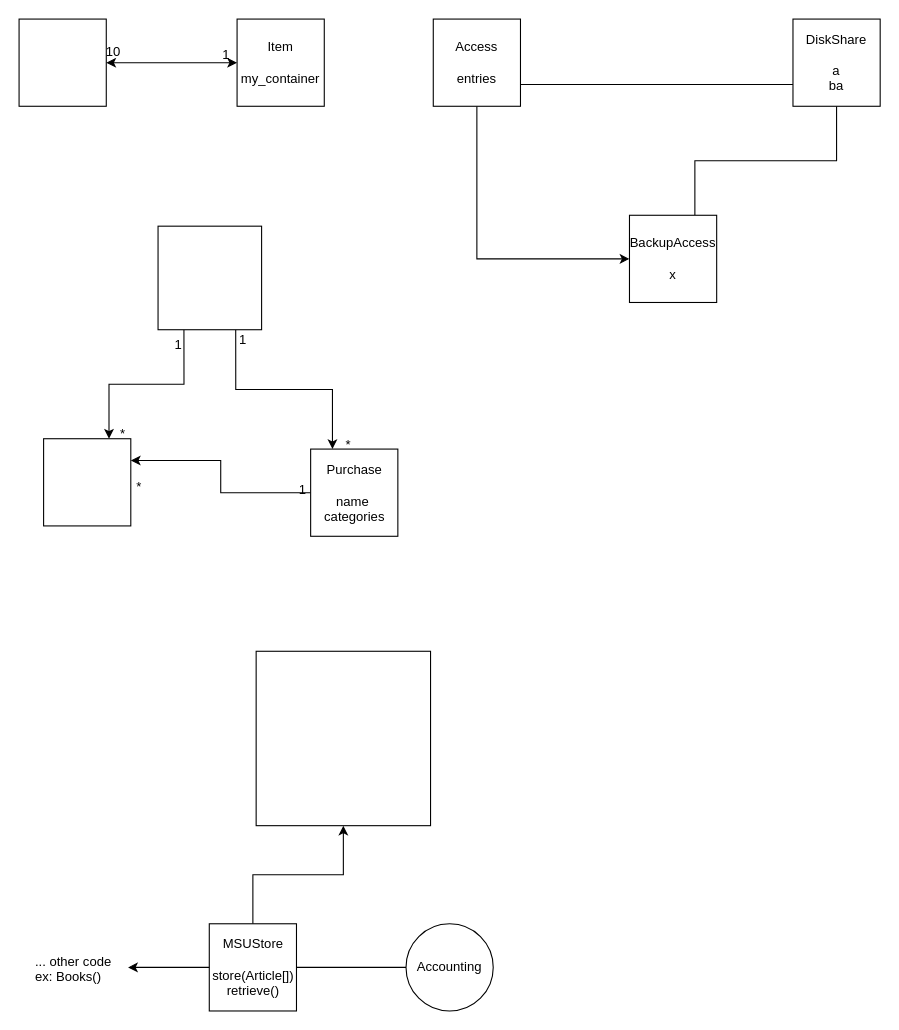
This 899x1030 diagram has some shape labels left out. Here are the shapes that lost their labels. From the top down, the centre of each, then its label:
[62,62]: Container items
[209,277]: AnazonAccount name categories entries
[87,482]: Category name
[343,738]: A Store A store(Article[]) A retrieve()
